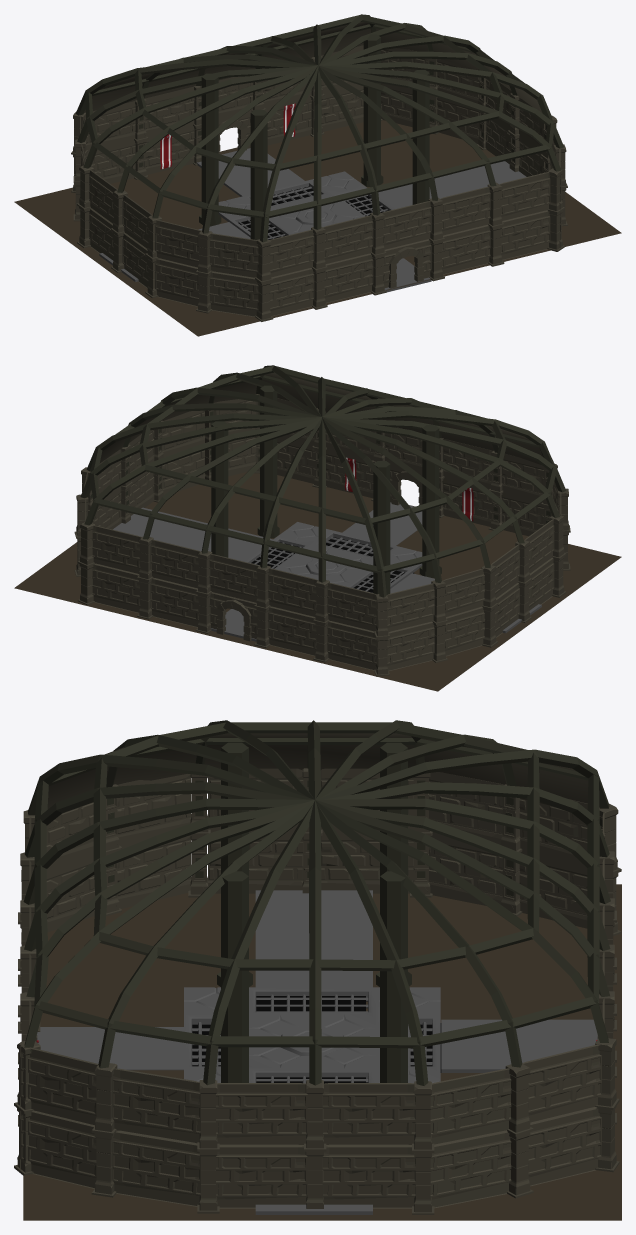
File: BossRoom.fbx
The picture shows the model from 3 angles, top to bottom: view 1: azimuth 30°, elevation 25°; view 2: azimuth 150°, elevation 25°; view 3: azimuth 270°, elevation 25°; orthographic projection. The views are drawn at different scales.
Visible parts, largest first — view 1: Plane.522, Plane.433, Plane.525, floor_tile_extralarge_grates, Plane.1885, Cube.1365, Cylinder, Plane.425, Plane.423, Plane.1863, Plane.1865, Plane.1872 (+51 smaller); view 2: Plane.522, Plane.433, Plane.525, floor_tile_extralarge_grates, Plane.1885, Cube.1365, Plane.401, Plane.1880, Plane.402, Cylinder.002, Plane.1884, Plane.407 (+54 smaller); view 3: Plane.522, Plane.433, Plane.525, floor_tile_extralarge_grates, Cube.1366, Plane.1885, Plane.429, Plane.430, Plane.1869, Plane.431, Plane.1867, Plane.1868 (+41 smaller).
Part boxes in pixels (x1,y1,x2,y2): Plane.522: (77, 14, 561, 233); Plane.433: (14, 120, 621, 336); Plane.525: (75, 23, 563, 242); floor_tile_extralarge_grates: (218, 171, 395, 239); Plane.1885: (84, 22, 542, 112); Cube.1365: (378, 161, 526, 208); Cylinder: (199, 73, 221, 226); Plane.425: (499, 172, 550, 222); Plane.423: (323, 215, 373, 265); Plane.1863: (501, 210, 550, 260); Plane.1865: (440, 186, 490, 236); Plane.1872: (324, 253, 373, 303); Plane.522: (84, 365, 566, 582); Plane.433: (14, 472, 621, 691); Plane.525: (80, 372, 559, 597); floor_tile_extralarge_grates: (243, 522, 422, 592); Plane.1885: (99, 373, 542, 464); Cube.1365: (113, 507, 272, 561); Plane.401: (327, 582, 376, 632); Plane.1880: (327, 621, 376, 670); Plane.402: (209, 554, 258, 604); Cylinder.002: (419, 425, 441, 577); Plane.1884: (268, 568, 317, 618); Plane.407: (150, 539, 200, 589); Plane.522: (24, 722, 610, 1085); Plane.433: (23, 884, 621, 1220); Plane.525: (23, 720, 610, 1085); floor_tile_extralarge_grates: (184, 987, 440, 1083); Cube.1366: (255, 890, 372, 987); Plane.1885: (47, 733, 588, 809); Plane.429: (322, 1083, 415, 1147); Plane.430: (216, 1083, 307, 1147); Plane.1869: (322, 1144, 415, 1208); Plane.431: (112, 1068, 200, 1145); Plane.1867: (112, 1130, 200, 1206); Plane.1868: (216, 1144, 307, 1208).
Size of the model in its own units: 8966 by 3409 by 6847.
